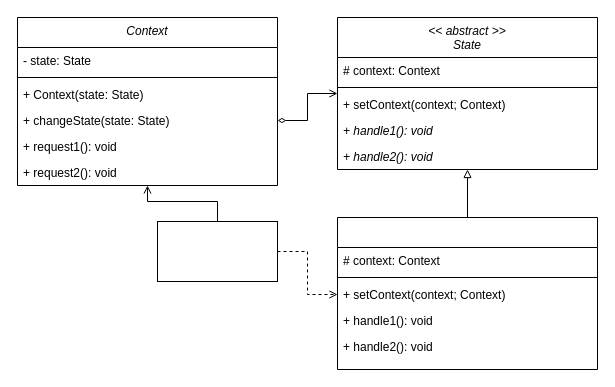
Image size: 615x387. Some labels were removed from this diagram. Each missing label, with the box of its shape:
Client: (156, 220, 278, 282)
ConcreteStateA: (336, 216, 598, 370)
